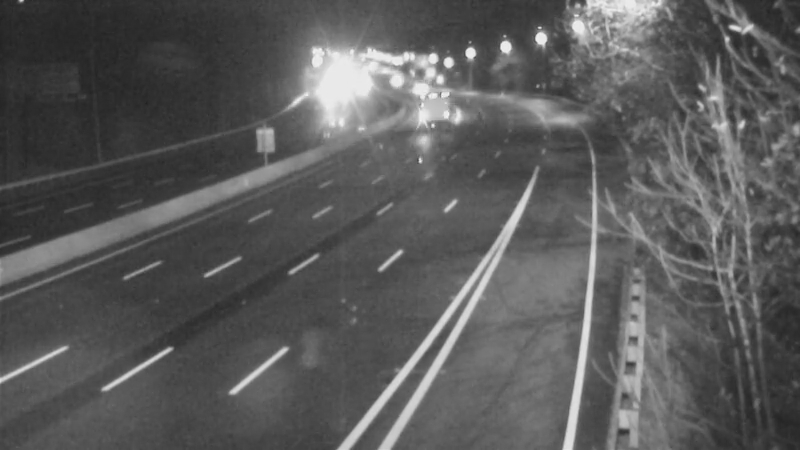vehicle: (368, 54, 418, 104), (390, 63, 440, 113), (397, 88, 447, 138)
